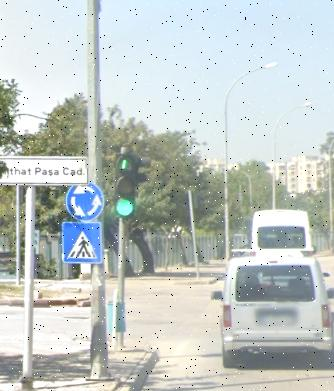crossroads: (67, 182, 105, 219)
greenlight: (117, 152, 138, 220)
